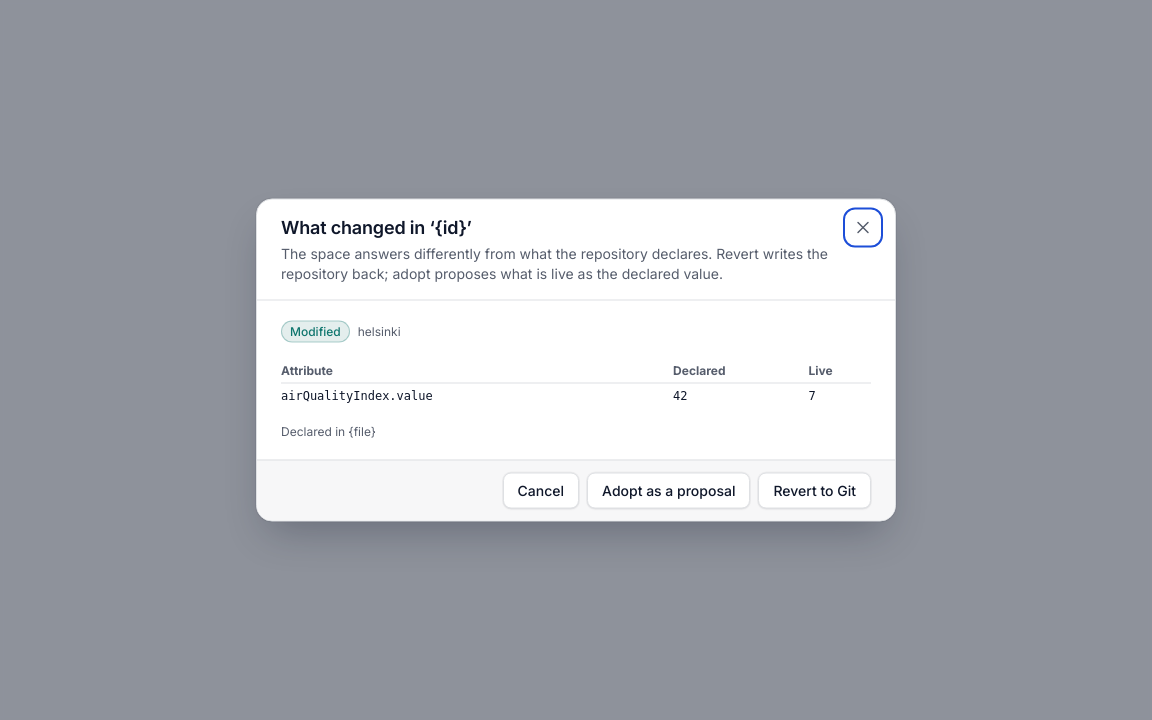
resolving a drifted entity › says what the platform refused rather than looking like it worked
Click the button "Revert to Git" at (815, 490), box 758,472 -> 871,508
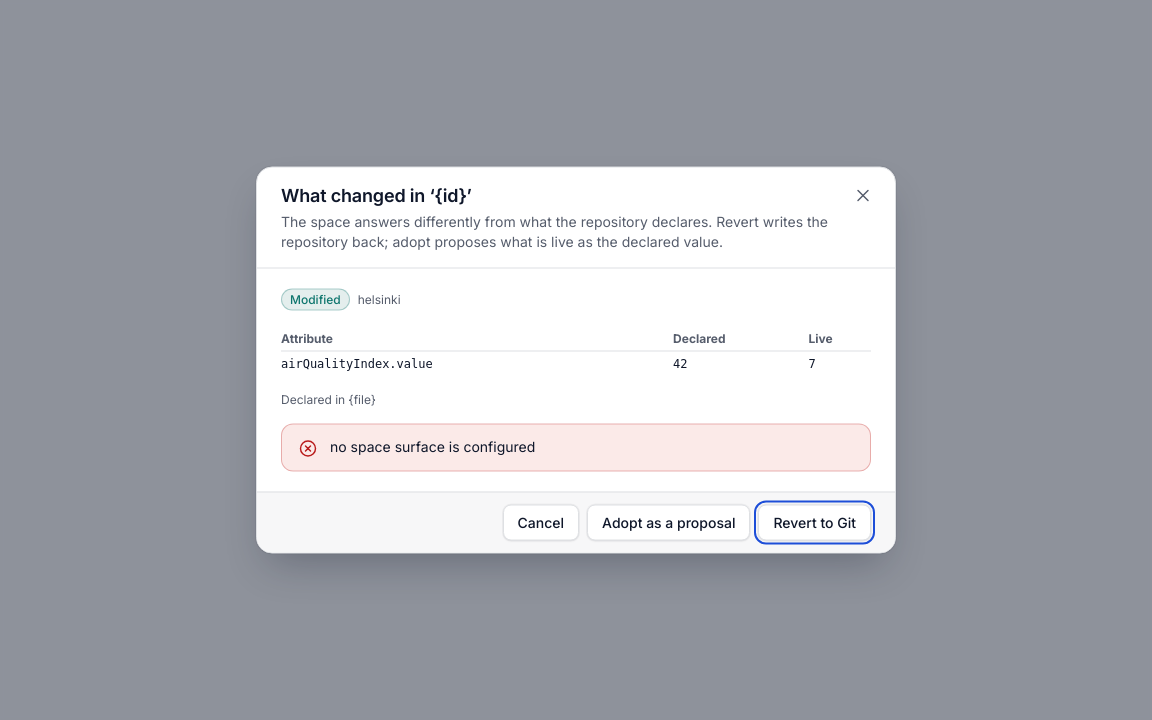
Result: the message shows "no space surface" at 330,438 -> 535,454
